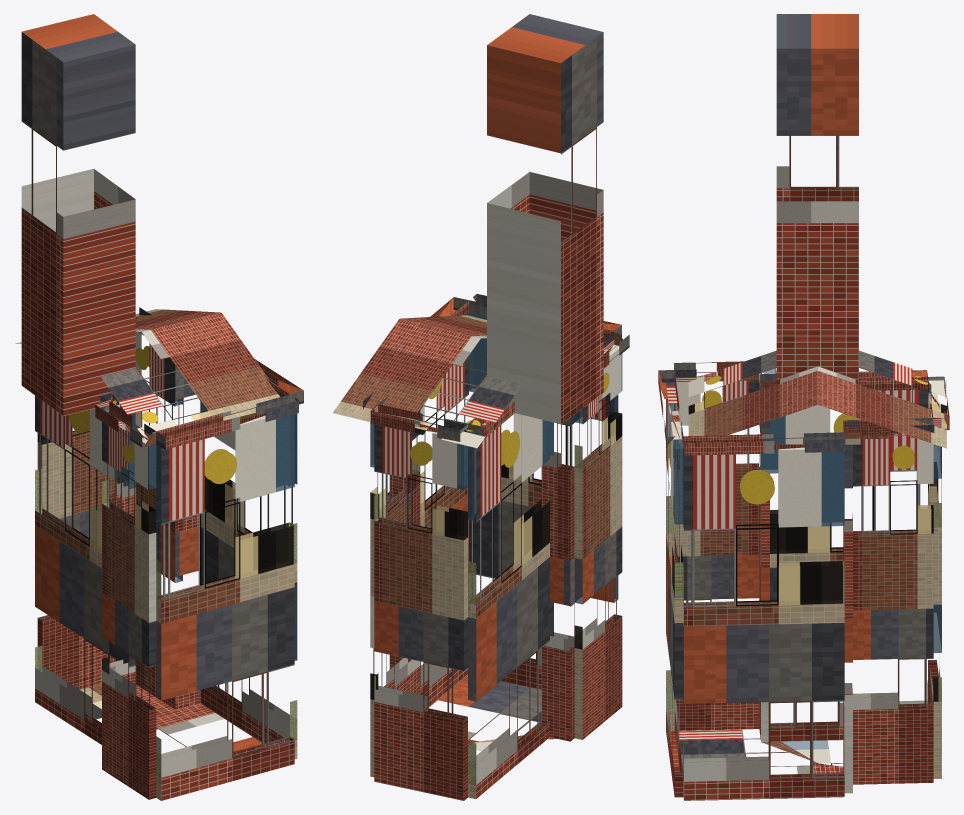
The picture shows the model from 3 angles, left to right: view 1: azimuth 30°, elevation 25°; view 2: azimuth 150°, elevation 25°; view 3: azimuth 270°, elevation 25°; orthographic projection. The views are drawn at different scales.
Visible parts, largest first — view 1: 1106965464__chimney_0_xb, 1106965464__wall_3_xb, 1106965464__wall_4_xb, 1106965464__wall_6_xb, 1106965464_roof_-1_xb, 1106965464__wall_2_xb, 1106965464__wall_7_xb, 1106965464__wall_3_xf, 1106965464__wall_0_xb, 1106965464__cornice_3, 1106965464__base, 1106965464__wall_1_xb (+7 smaller); view 2: 1106965464__chimney_0_xb, 1106965464__wall_7_xb, 1106965464__wall_6_xb, 1106965464__wall_4_xb, 1106965464_roof_1_xb, 1106965464__wall_5_xb, 1106965464__wall_3_xb, 1106965464__wall_2_xb, 1106965464__wall_0_xb, 1106965464__wall_6_xf, 1106965464__base, 1106965464__cornice_7 (+8 smaller); view 3: 1106965464__wall_2_xb, 1106965464__chimney_0_xb, 1106965464__wall_0_xb, 1106965464__wall_4_xb, 1106965464__wall_6_xb, 1106965464__wall_3_xb, 1106965464_roof_-1_xb, 1106965464_roof_1_xb, 1106965464__wall_2_xf, 1106965464__base, 1106965464__wall_7_xb, 1106965464__cornice_2 (+9 smaller).
Part boxes in pixels (left/top/right/bottom): 1106965464__chimney_0_xb: left=21, top=14, right=135, bottom=415; 1106965464__wall_3_xb: left=156, top=414, right=294, bottom=800; 1106965464__wall_4_xb: left=102, top=414, right=156, bottom=799; 1106965464__wall_6_xb: left=35, top=395, right=135, bottom=744; 1106965464_roof_-1_xb: left=101, top=312, right=279, bottom=439; 1106965464__wall_2_xb: left=200, top=401, right=297, bottom=759; 1106965464__wall_7_xb: left=37, top=430, right=124, bottom=689; 1106965464__wall_3_xf: left=156, top=415, right=294, bottom=776; 1106965464__wall_0_xb: left=135, top=331, right=182, bottom=708; 1106965464__cornice_3: left=156, top=394, right=298, bottom=449; 1106965464__base: left=80, top=684, right=261, bottom=751; 1106965464__wall_1_xb: left=175, top=366, right=200, bottom=709; 1106965464__chimney_0_xb: left=487, top=14, right=603, bottom=424; 1106965464__wall_7_xb: left=374, top=424, right=467, bottom=800; 1106965464__wall_6_xb: left=468, top=413, right=553, bottom=798; 1106965464__wall_4_xb: left=574, top=344, right=622, bottom=739; 1106965464_roof_1_xb: left=333, top=318, right=522, bottom=448; 1106965464__wall_5_xb: left=541, top=414, right=574, bottom=741; 1106965464__wall_3_xb: left=469, top=313, right=618, bottom=689; 1106965464__wall_2_xb: left=387, top=313, right=468, bottom=707; 1106965464__wall_0_xb: left=370, top=410, right=420, bottom=777; 1106965464__wall_6_xf: left=468, top=420, right=553, bottom=784; 1106965464__base: left=438, top=675, right=556, bottom=751; 1106965464__cornice_7: left=370, top=404, right=467, bottom=441; 1106965464__wall_2_xb: left=683, top=447, right=844, bottom=800; 1106965464__chimney_0_xb: left=776, top=14, right=858, bottom=384; 1106965464__wall_0_xb: left=853, top=435, right=933, bottom=784; 1106965464__wall_4_xb: left=674, top=380, right=759, bottom=730; 1106965464__wall_6_xb: left=760, top=389, right=927, bottom=741; 1106965464__wall_3_xb: left=666, top=382, right=683, bottom=797; 1106965464_roof_-1_xb: left=688, top=350, right=817, bottom=442; 1106965464_roof_1_xb: left=818, top=350, right=946, bottom=448; 1106965464__wall_2_xf: left=683, top=452, right=844, bottom=700; 1106965464__base: left=679, top=729, right=843, bottom=773; 1106965464__wall_7_xb: left=928, top=389, right=941, bottom=778; 1106965464__cornice_2: left=683, top=432, right=845, bottom=455.
Size of the model in its own units: 0.401 by 1.4 by 0.5304.
Materials: 1 (1 with a texture image).
